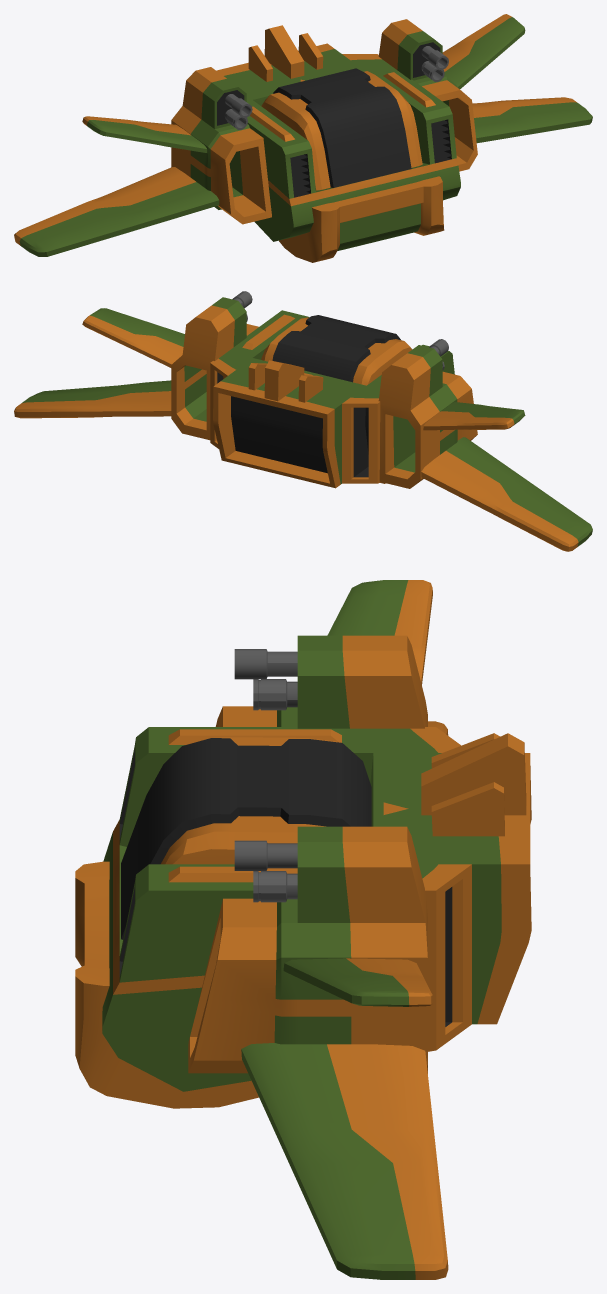
Rendered from spaceship-2.glb.
3 views of the same model, one above another, from view 1: azimuth 30°, elevation 25°; view 2: azimuth 150°, elevation 25°; view 3: azimuth 270°, elevation 25° (orthographic). The views are drawn at different scales.
Visible parts, largest first — view 1: Spaceship_FinnTheFrog; view 2: Spaceship_FinnTheFrog; view 3: Spaceship_FinnTheFrog.
Boxes of the visible parts, x1,y1,x2,y2 form: Spaceship_FinnTheFrog: [14, 14, 592, 262]; Spaceship_FinnTheFrog: [14, 291, 592, 551]; Spaceship_FinnTheFrog: [75, 580, 531, 1279].
Bounding box in the file's own units: 11.62 × 3.06 × 4.11.
Materials: 1 (1 with a texture image).
